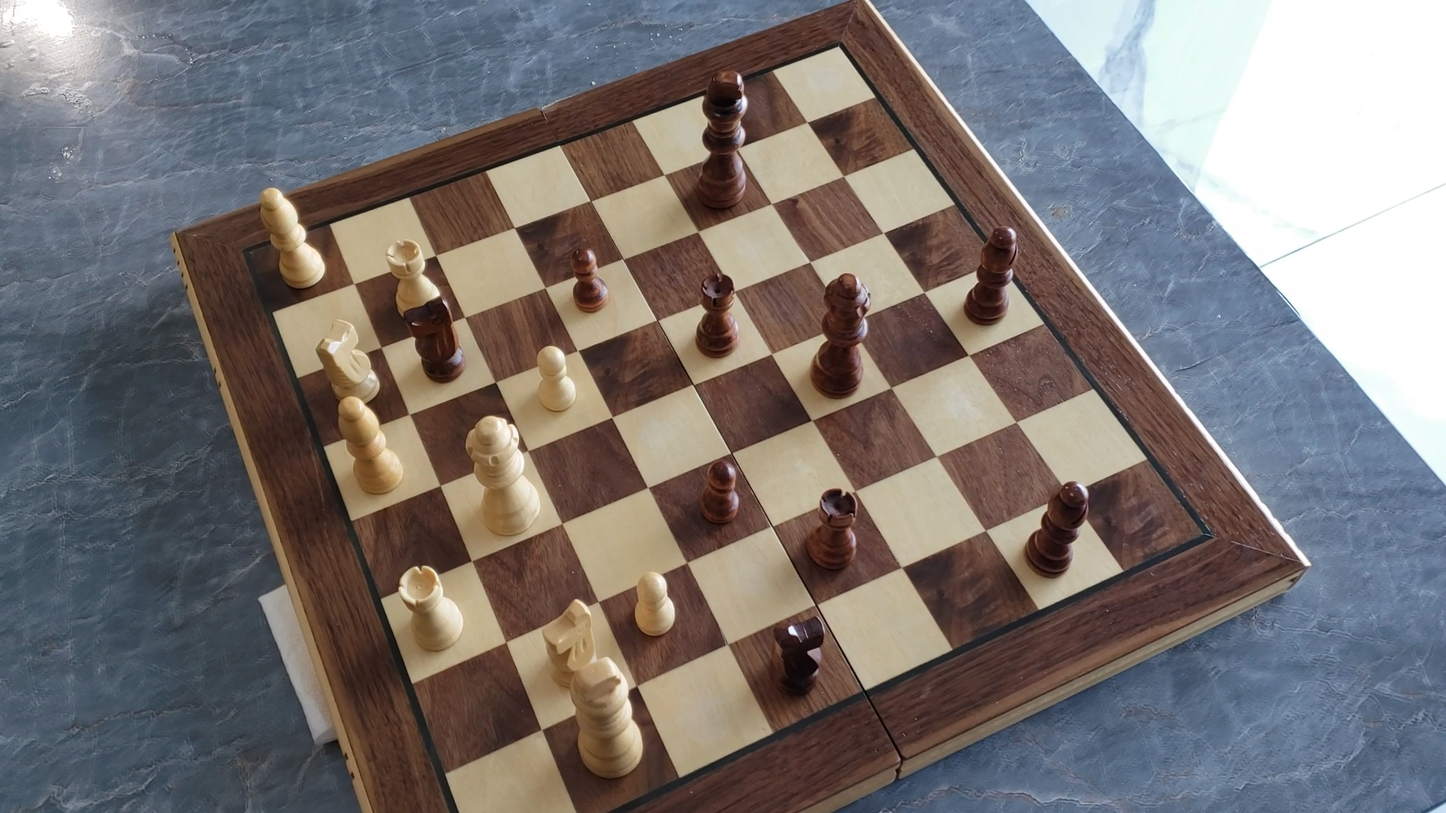black-bishop: (1016, 480, 1100, 578), (965, 222, 1019, 330)
black-king: (692, 63, 752, 213)
black-knight: (403, 294, 467, 384), (768, 607, 831, 698)
black-pawn: (697, 451, 743, 529), (567, 241, 609, 314)
black-queen: (810, 269, 873, 399)
black-rook: (804, 486, 861, 573), (692, 269, 741, 359)
white-bishop: (255, 183, 330, 294), (332, 394, 407, 497)
white-king: (566, 653, 648, 781)
white-knight: (313, 316, 384, 409), (540, 595, 601, 689)
white-pawn: (628, 567, 681, 642), (531, 340, 581, 416)
white-queen: (461, 413, 547, 541)
white-rook: (396, 561, 467, 655), (383, 235, 441, 322)
